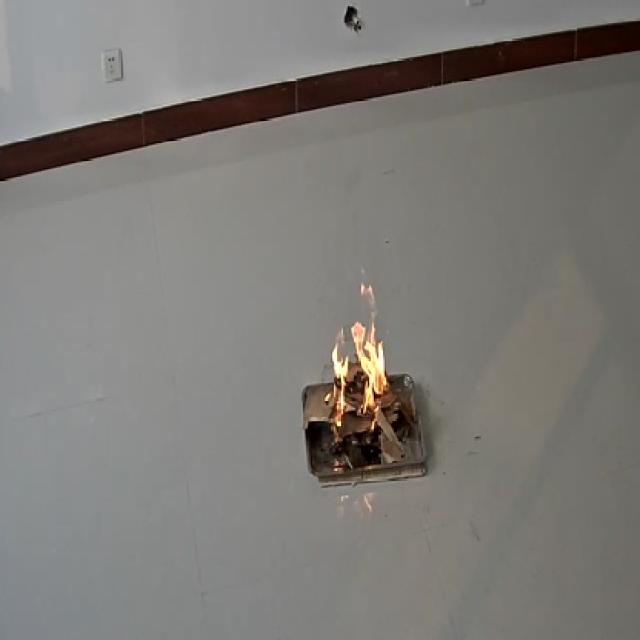Fire: (322, 272, 406, 433)
